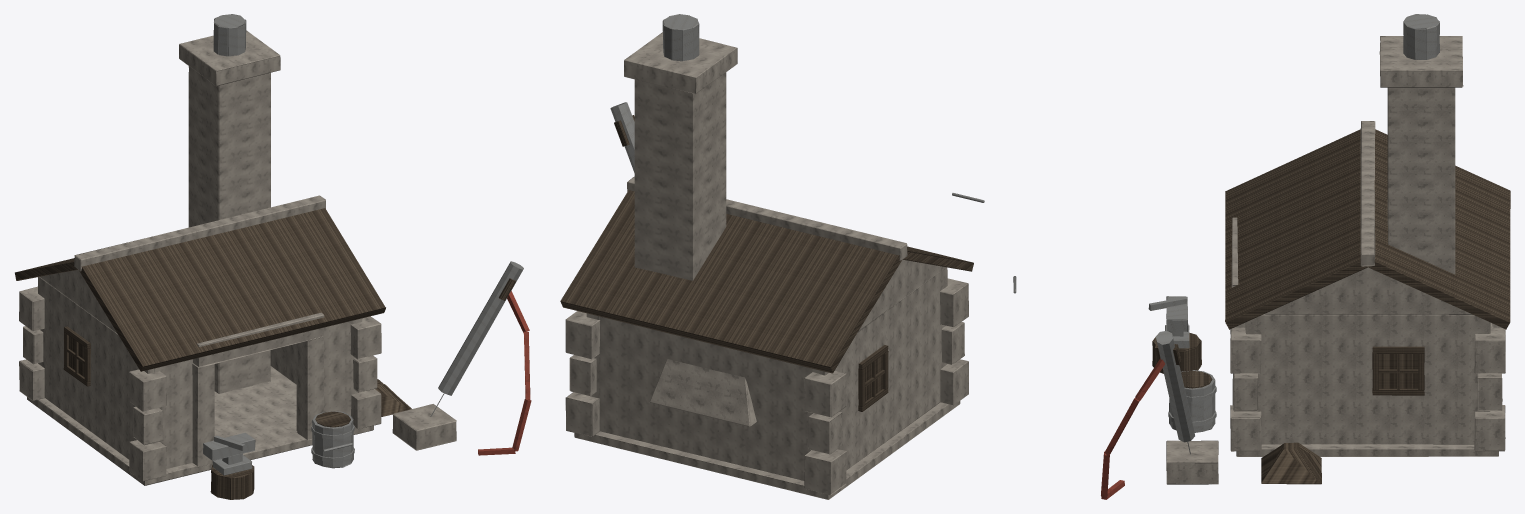
Rendered from needle_forge.glb.
3 views of the same model, side by side, from view 1: azimuth 30°, elevation 25°; view 2: azimuth 150°, elevation 25°; view 3: azimuth 270°, elevation 25° (orthographic). The views are drawn at different scales.
Parts seen in each view (by area): view 1: NeedleForge; view 2: NeedleForge; view 3: NeedleForge.
Part boxes in pixels (x1,y1,x2,y2): NeedleForge: [15, 14, 531, 499]; NeedleForge: [560, 14, 984, 499]; NeedleForge: [1013, 14, 1510, 499].
Bounding box in the file's own units: 8.32 × 8.17 × 9.12.
4 materials, 4 textured.
